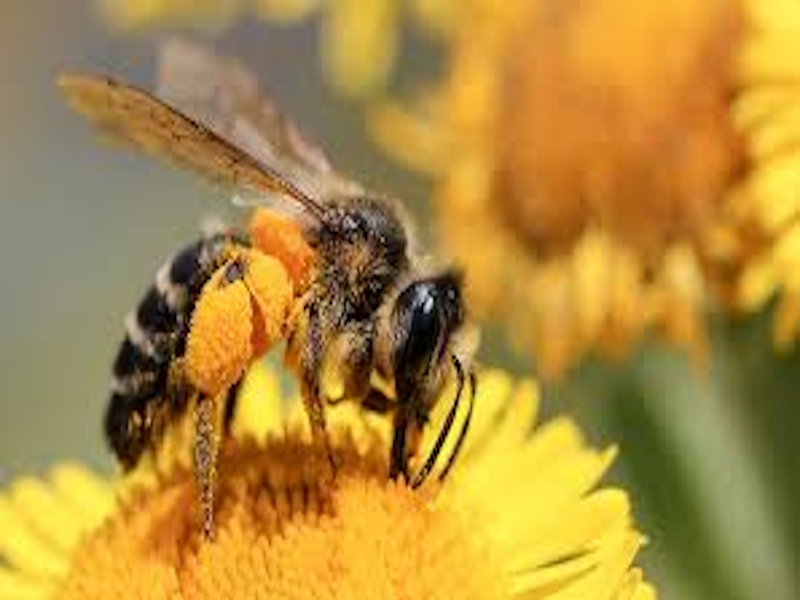abeja: (30, 52, 509, 547)
